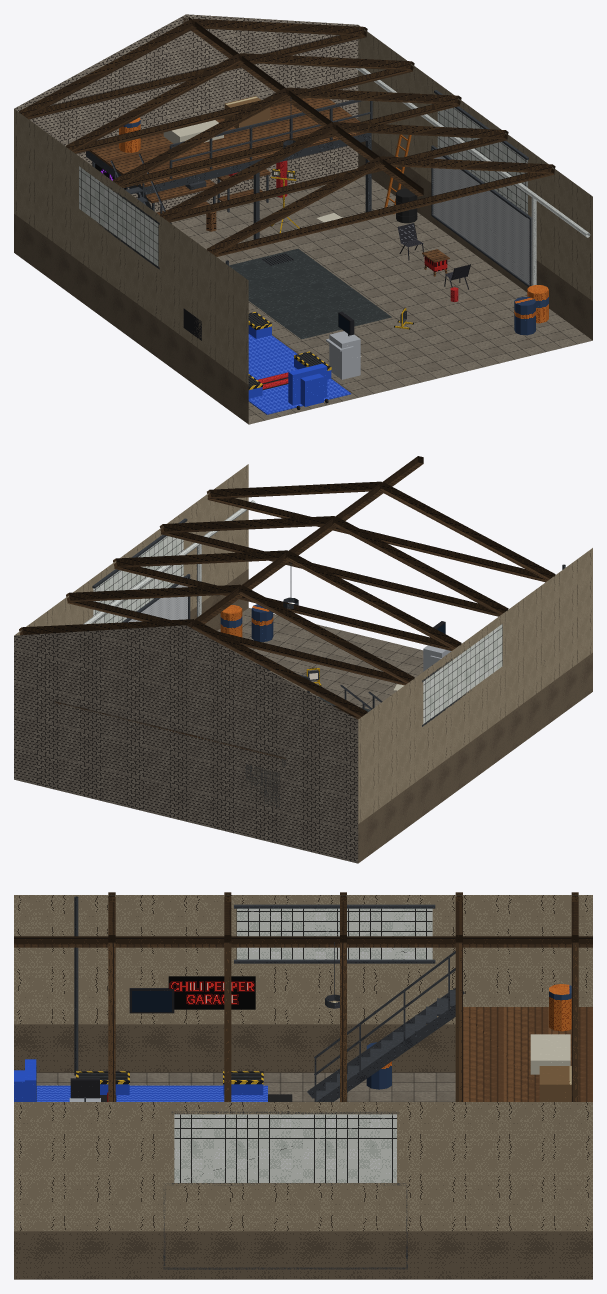
Rendered from garage.glb.
3 views of the same model, one above another, from view 1: azimuth 30°, elevation 25°; view 2: azimuth 150°, elevation 25°; view 3: azimuth 270°, elevation 25° (orthographic). The views are drawn at different scales.
Parts seen in each view (by area): view 1: floor, beam, plaster, brick, plaster_low, epoxy, wood, steel, EMIT_window, pegwhite, dynoplate, dynoblue (+11 smaller); view 2: brick, beam, plaster, plaster_low, floor, EMIT_window, steel, bucket, pegwhite, barrel_b, barrel_o; view 3: plaster, plaster_low, EMIT_window, beam, steel, wood, floor, EMIT_neon_red, dynoplate, dynoblue, paper, cardboard (+6 smaller).
Boxes of the visible parts, left/top/right/bottom form: floor: left=171, top=175, right=592, bottom=424; beam: left=19, top=17, right=555, bottom=256; plaster: left=14, top=25, right=592, bottom=384; brick: left=14, top=14, right=358, bottom=212; plaster_low: left=14, top=140, right=592, bottom=424; epoxy: left=229, top=248, right=391, bottom=339; wood: left=89, top=98, right=449, bottom=276; steel: left=86, top=90, right=531, bottom=336; EMIT_window: left=79, top=107, right=527, bottom=266; pegwhite: left=433, top=149, right=529, bottom=284; dynoplate: left=248, top=334, right=351, bottom=414; dynoblue: left=248, top=325, right=331, bottom=406; brick: left=14, top=625, right=358, bottom=863; beam: left=19, top=456, right=555, bottom=719; plaster: left=14, top=464, right=592, bottom=823; plaster_low: left=190, top=569, right=592, bottom=863; floor: left=215, top=608, right=423, bottom=709; EMIT_window: left=93, top=536, right=502, bottom=723; steel: left=92, top=518, right=565, bottom=807; bucket: left=83, top=500, right=255, bottom=624; pegwhite: left=128, top=578, right=187, bottom=622; barrel_b: left=251, top=604, right=273, bottom=641; barrel_o: left=220, top=605, right=242, bottom=637; plaster: left=14, top=895, right=592, bottom=1231; plaster_low: left=14, top=1024, right=592, bottom=1279; EMIT_window: left=174, top=908, right=432, bottom=1182; beam: left=14, top=892, right=592, bottom=1101; steel: left=74, top=896, right=464, bottom=1269; wood: left=463, top=1007, right=592, bottom=1101; floor: left=36, top=1072, right=455, bottom=1101; EMIT_neon_red: left=168, top=976, right=255, bottom=1009; dynoplate: left=36, top=1085, right=267, bottom=1101; dynoblue: left=14, top=1059, right=263, bottom=1101; paper: left=530, top=1034, right=570, bottom=1074; cardboard: left=539, top=1066, right=571, bottom=1101.
Size of the model in its own units: 11.06 by 6.04 by 13.
Materials: 37 (37 with a texture image).
